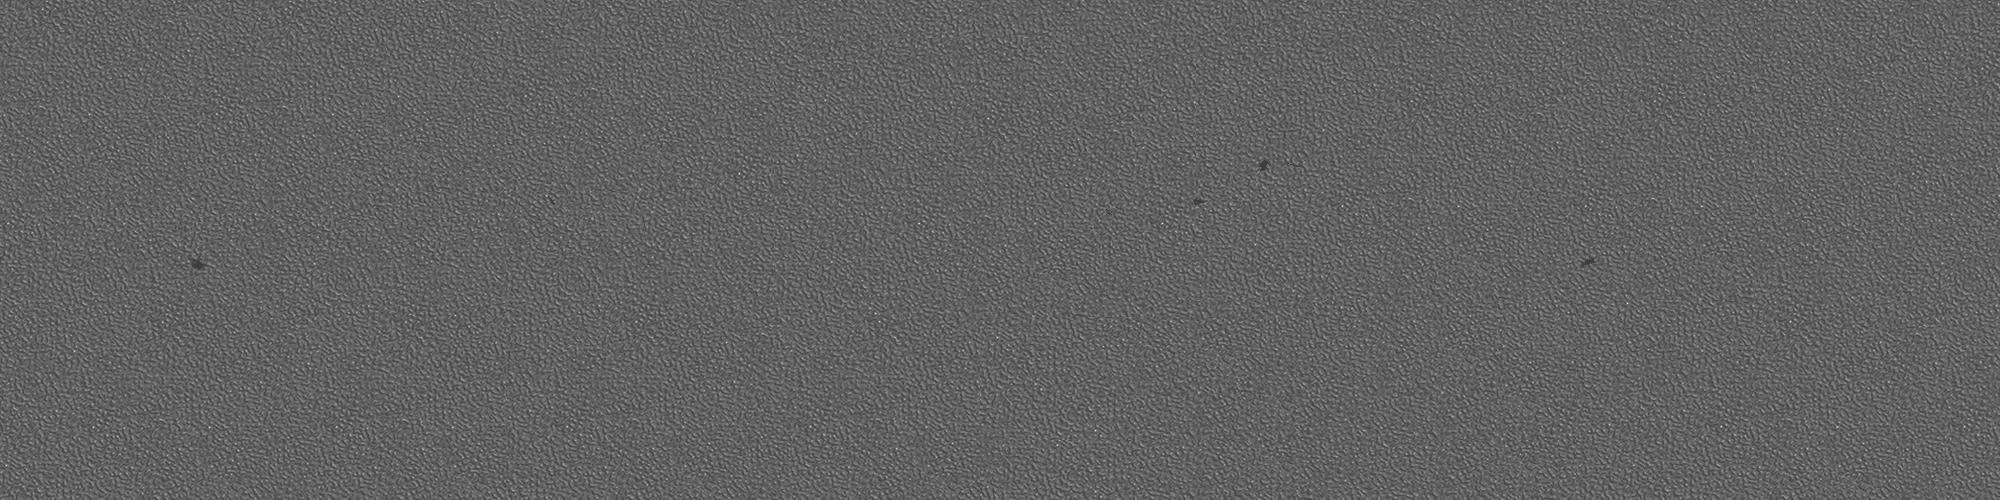Decomposed: (182, 247, 214, 276), (1582, 249, 1599, 269), (1189, 194, 1205, 213), (1255, 153, 1270, 170)
